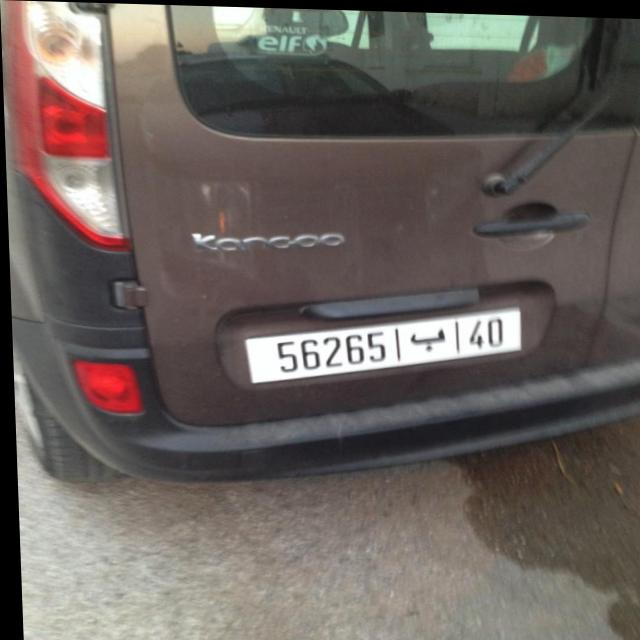License-Plate: (243, 304, 519, 382)
